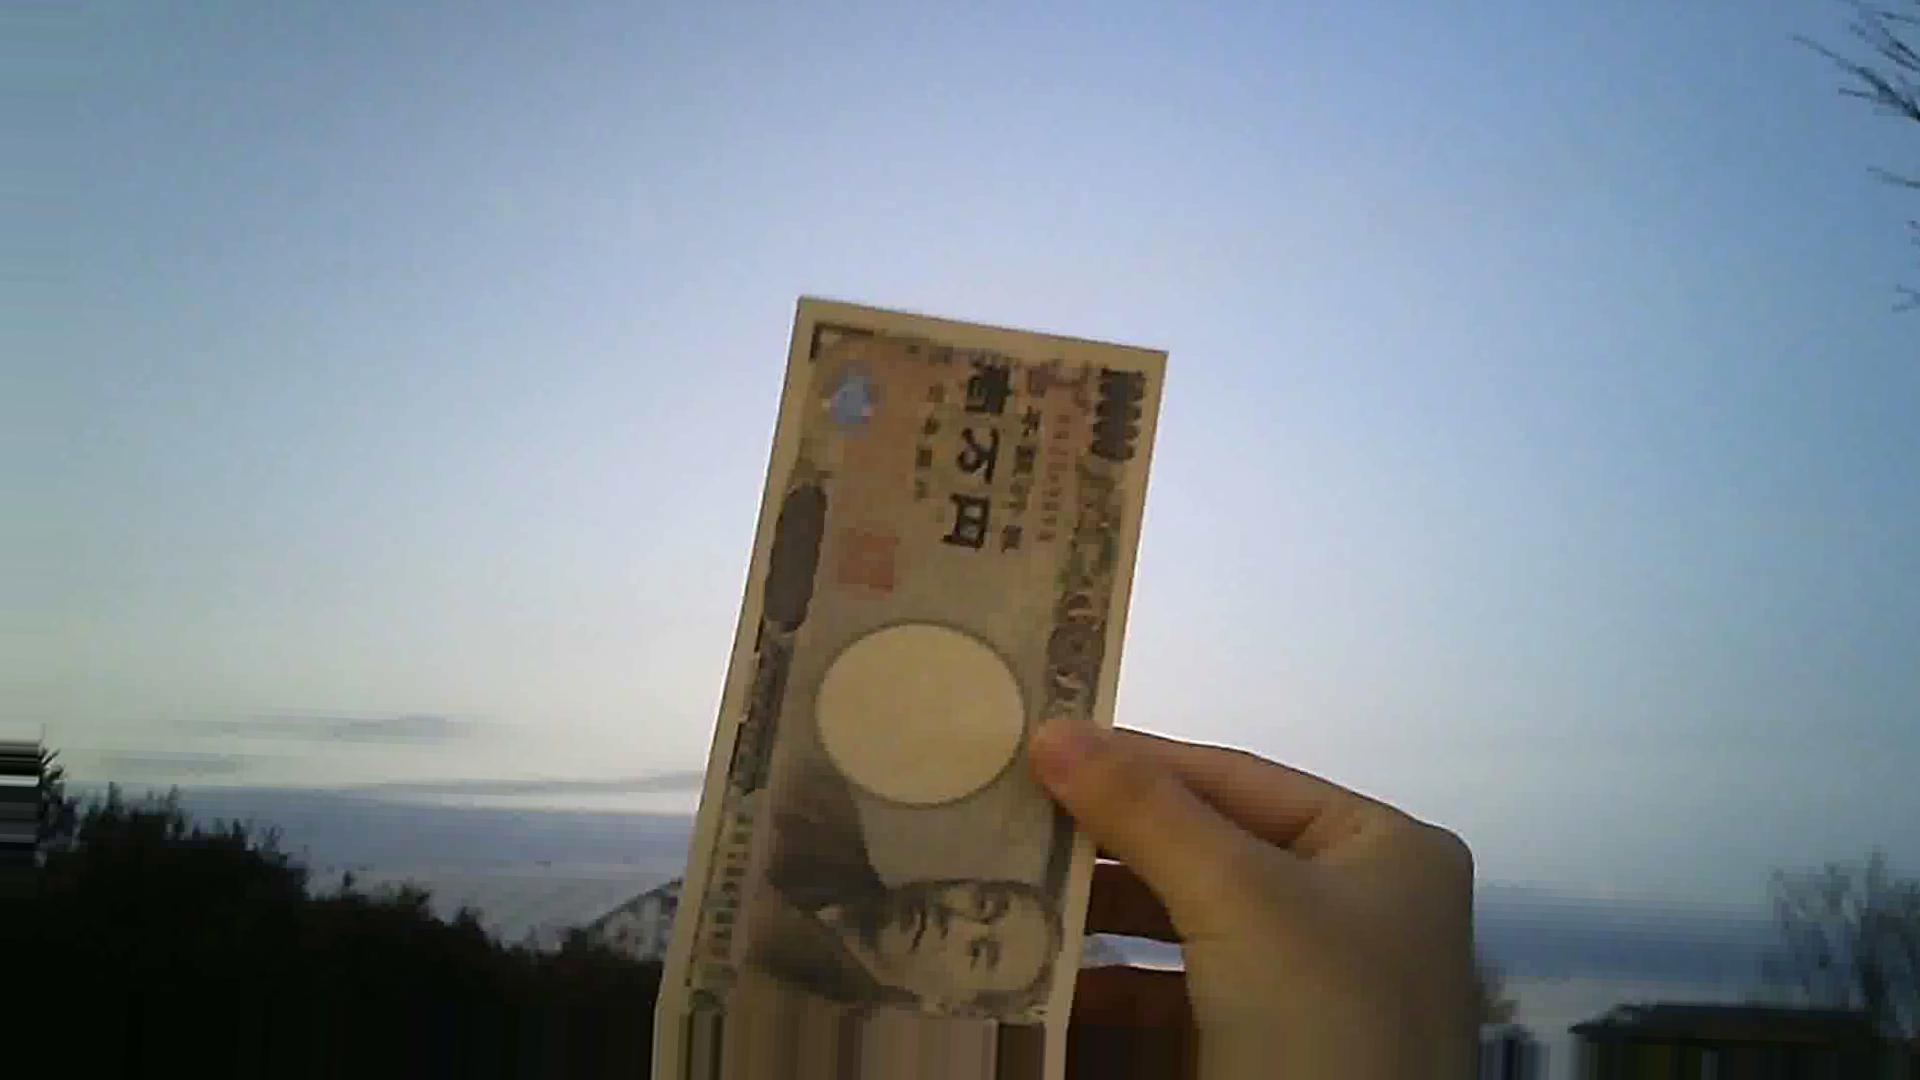10,000 Yen: (659, 293, 1170, 1013)
